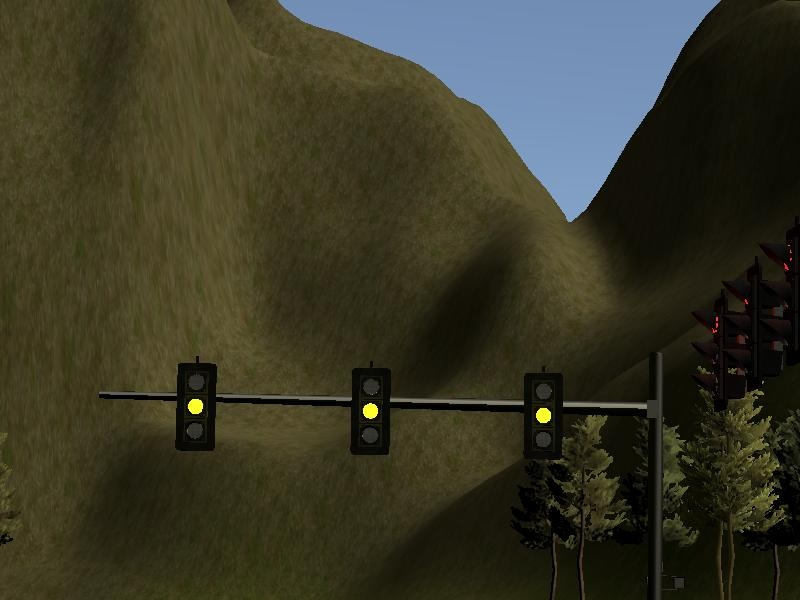yellow: (172, 356, 221, 454), (519, 366, 566, 465), (348, 363, 395, 458)
